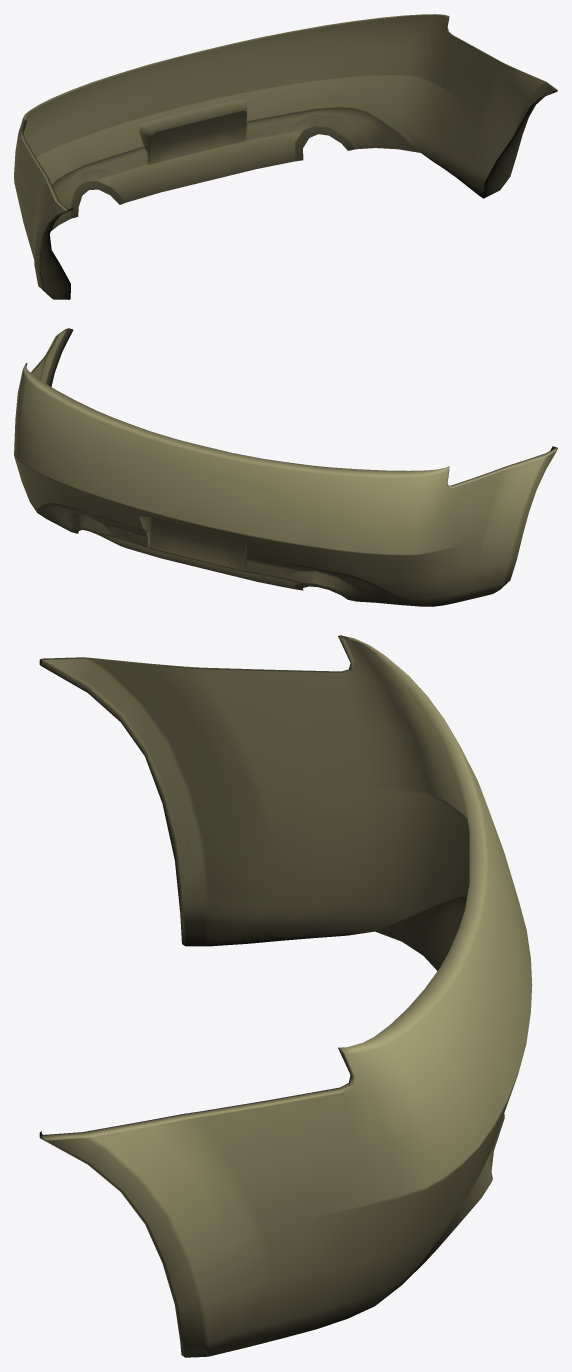
Rendered from G37_RB_01_Duco.fbx.
The picture shows the model from 3 angles, top to bottom: view 1: azimuth 30°, elevation 25°; view 2: azimuth 150°, elevation 25°; view 3: azimuth 270°, elevation 25°; orthographic projection. The views are drawn at different scales.
Visible parts, largest first — view 1: G37_RB_01_Duco; view 2: G37_RB_01_Duco; view 3: G37_RB_01_Duco.
Part boxes in pixels (x1,y1,x2,y2): G37_RB_01_Duco: [14, 14, 557, 299]; G37_RB_01_Duco: [14, 328, 557, 606]; G37_RB_01_Duco: [39, 635, 532, 1357].
Bounding box in the file's own units: 183 × 54.38 × 79.17.
